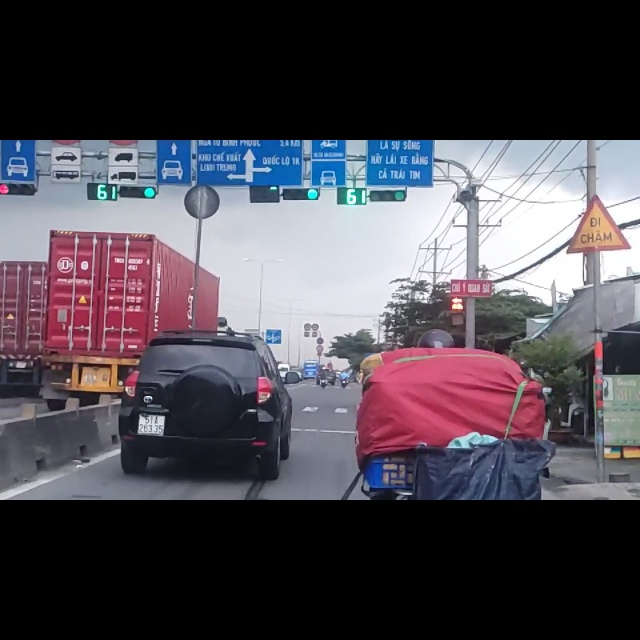bien_chi_dan: (566, 96, 632, 203)
